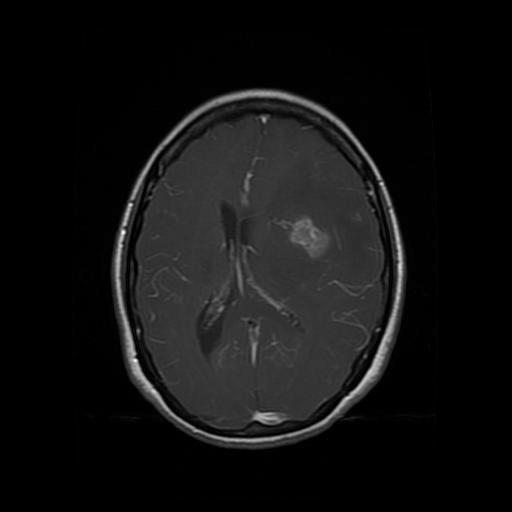Tumour-Glioma: (278, 209, 338, 266)
